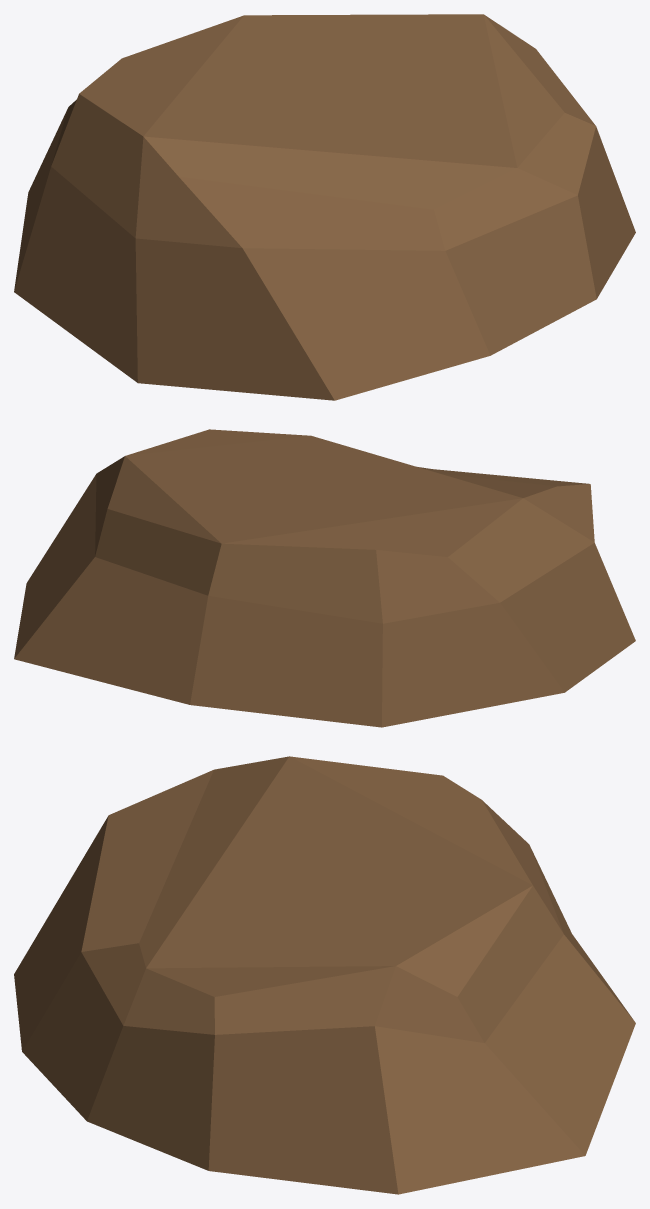
Rendered from Sausage.fbx.
The picture shows the model from 3 angles, top to bottom: view 1: azimuth 30°, elevation 25°; view 2: azimuth 150°, elevation 25°; view 3: azimuth 270°, elevation 25°; orthographic projection. The views are drawn at different scales.
Visible parts, largest first — view 1: Sphere; view 2: Sphere; view 3: Sphere.
Boxes of the visible parts, x1,y1,x2,y2 form: Sphere: [14, 14, 635, 400]; Sphere: [14, 429, 635, 727]; Sphere: [14, 756, 635, 1194].
Bounding box in the file's own units: 25.19 × 7.65 × 22.24.
